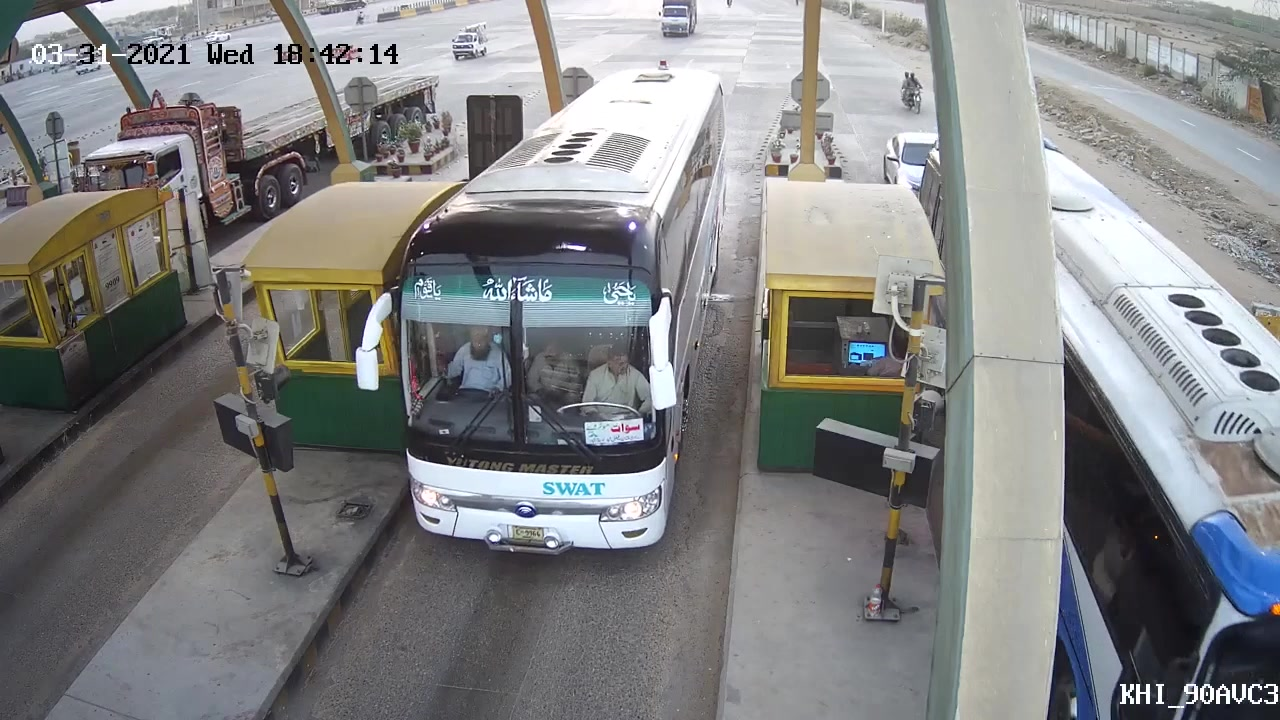F4: (373, 58, 737, 561)
